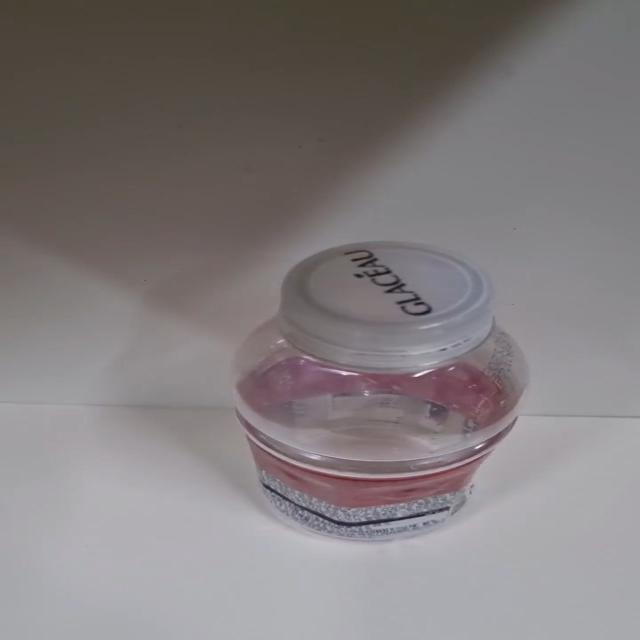Plastic: (229, 242, 532, 547)
